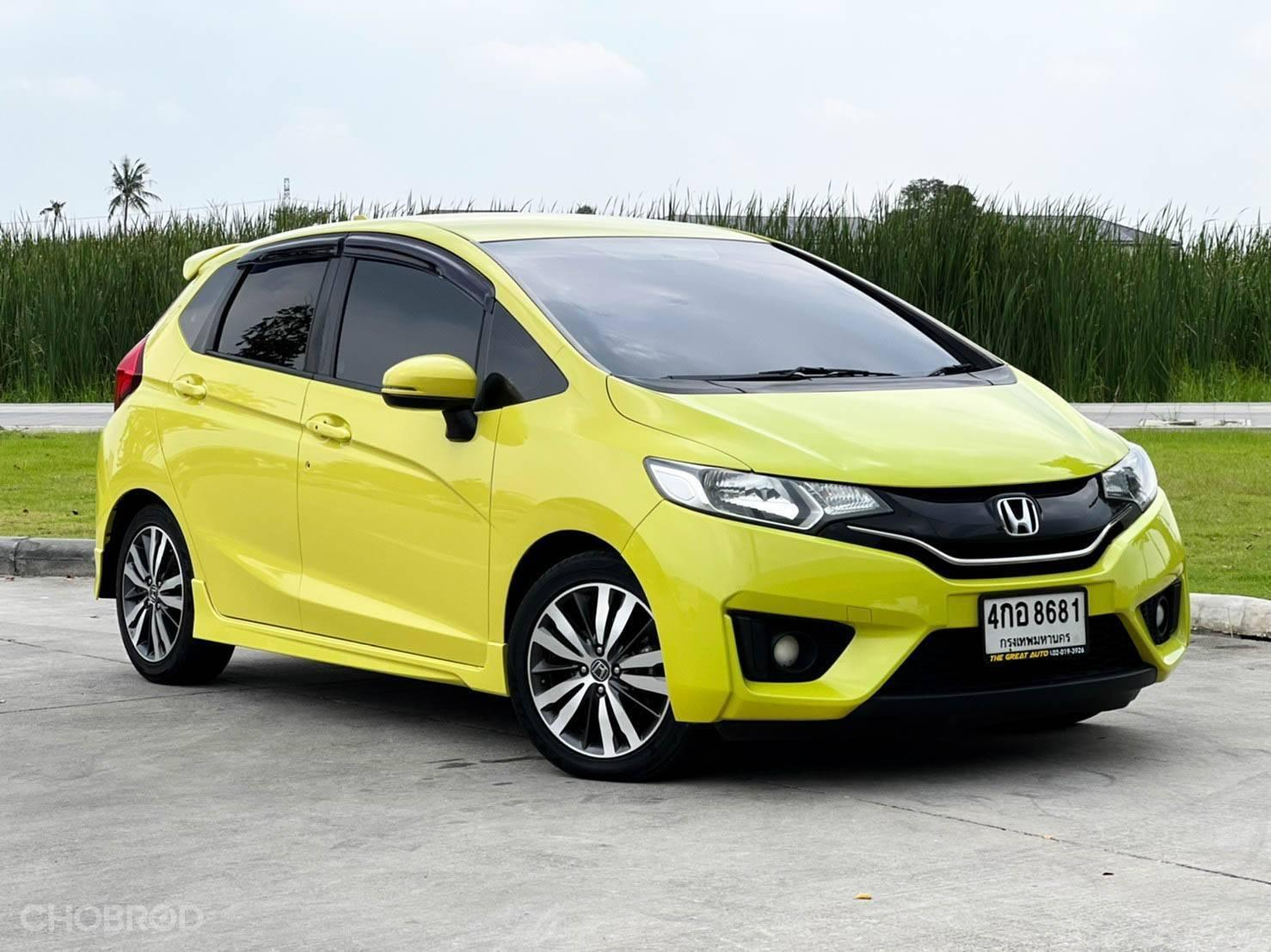license-plate: (975, 587, 1095, 669)
